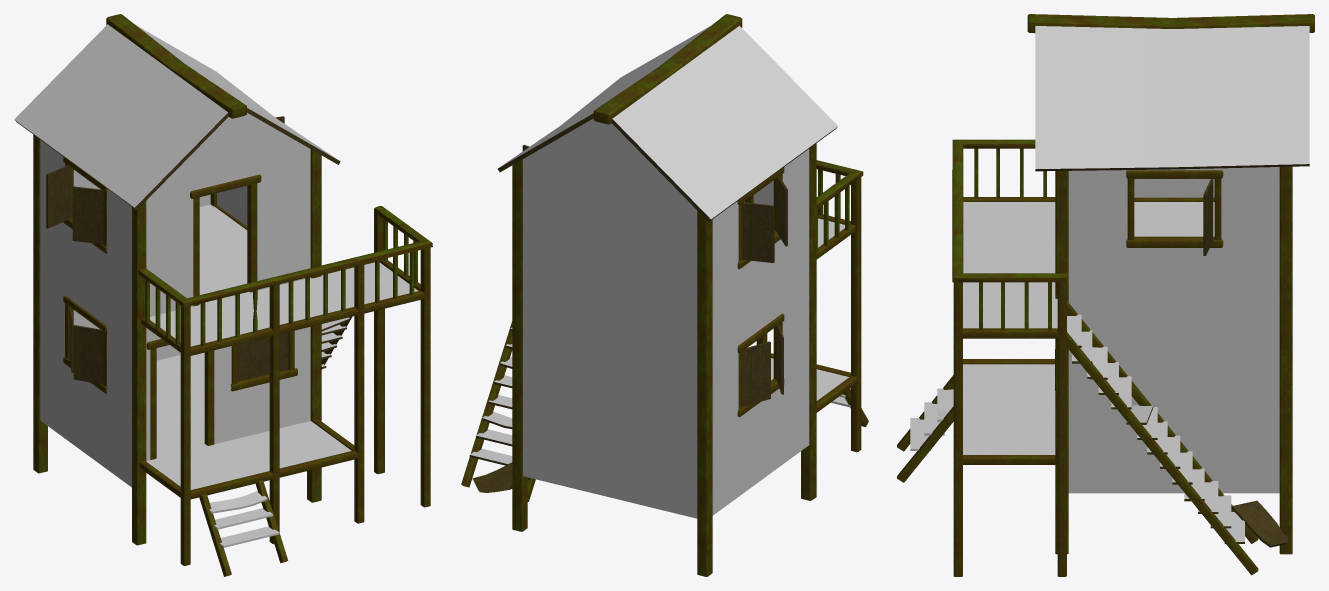
Rendered from Guarita_02Jun.fbx.
3 views of the same model, side by side, from view 1: azimuth 30°, elevation 25°; view 2: azimuth 150°, elevation 25°; view 3: azimuth 270°, elevation 25° (orthographic). The views are drawn at different scales.
Parts seen in each view (by area): view 1: pPlane12; view 2: pPlane12; view 3: pPlane12.
Part boxes in pixels (bbox=[...]): pPlane12: bbox=[14, 14, 432, 576]; pPlane12: bbox=[461, 14, 868, 576]; pPlane12: bbox=[897, 14, 1314, 576].
Bounding box in the file's own units: 552 × 815 × 637.
